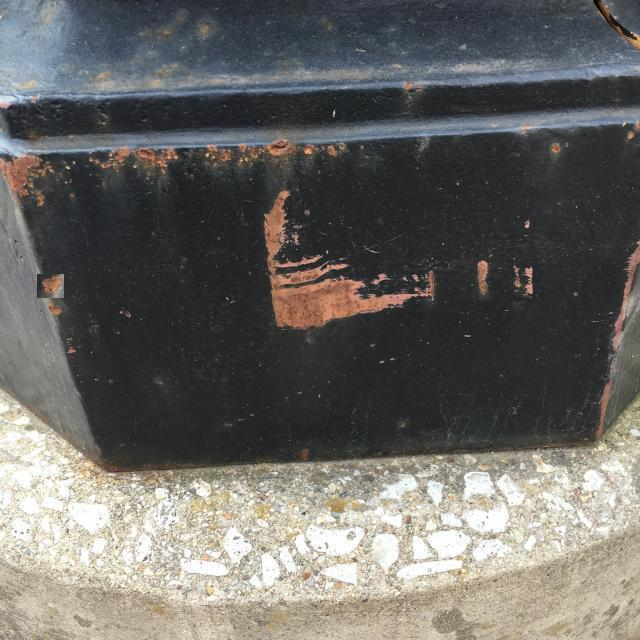Pitting Corrosion: (0, 97, 469, 329), (475, 251, 533, 298), (37, 272, 67, 316), (200, 23, 207, 35)
